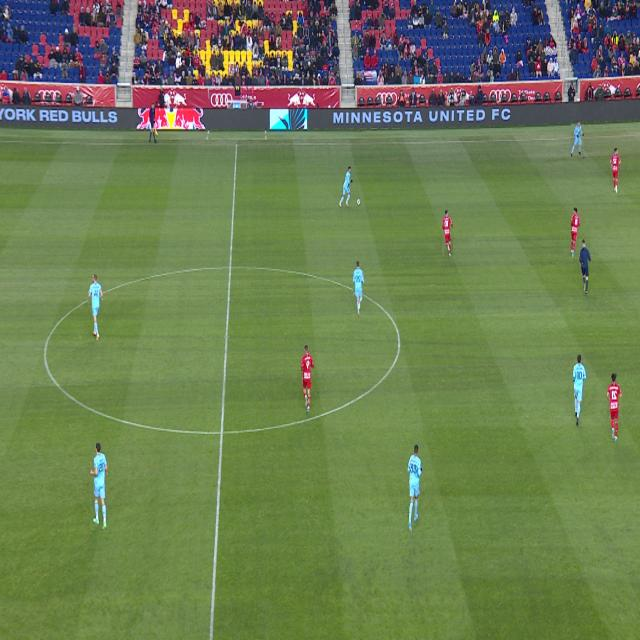football: (357, 198, 361, 206)
player: (91, 443, 107, 530), (408, 445, 422, 532), (607, 373, 622, 441), (572, 355, 586, 426), (88, 275, 103, 341), (301, 345, 314, 413), (339, 166, 353, 207), (442, 210, 453, 257), (354, 261, 363, 317), (571, 122, 584, 157), (571, 208, 580, 258), (611, 148, 620, 193)
referee: (580, 239, 590, 294)
